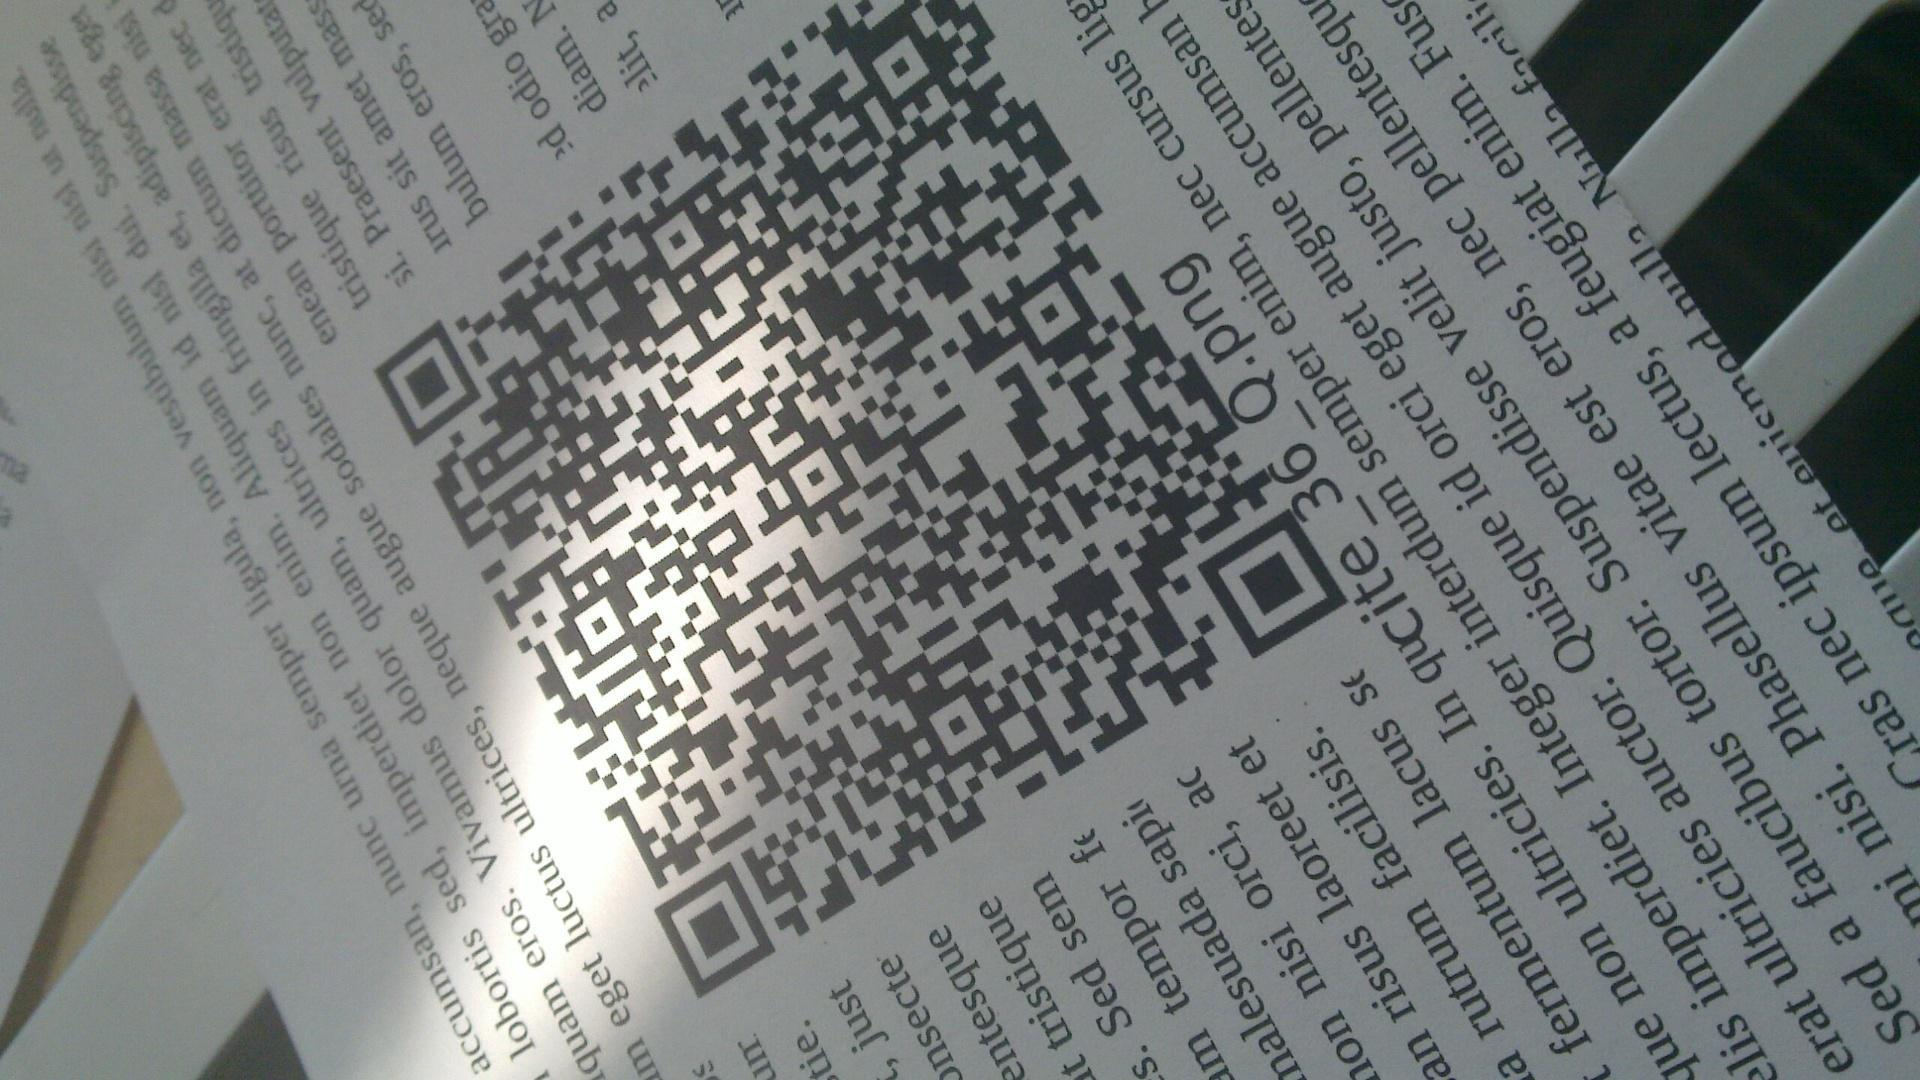Finder pattern: (1191, 505, 1352, 653), (655, 870, 785, 996), (376, 322, 477, 442)
